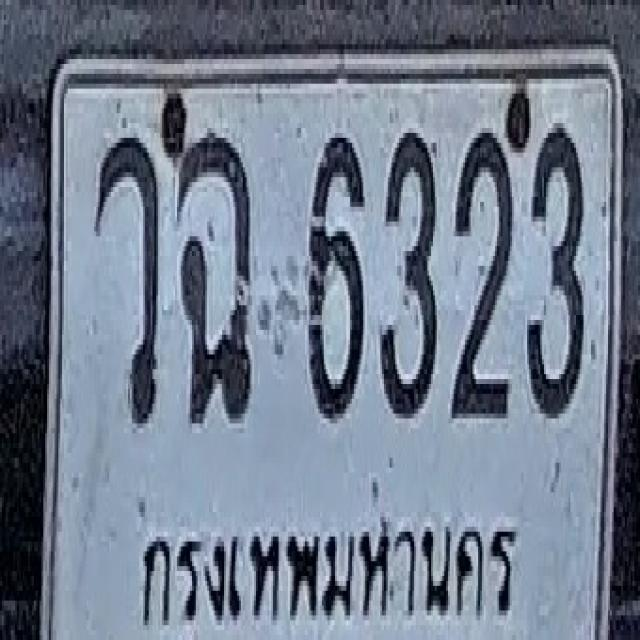2: (452, 126, 525, 416), (451, 121, 513, 416)
3: (526, 121, 585, 416), (380, 126, 437, 416)
6: (308, 130, 364, 416)
A09: (172, 123, 252, 419)
A37: (94, 128, 160, 423)
BKK: (138, 504, 522, 638)
